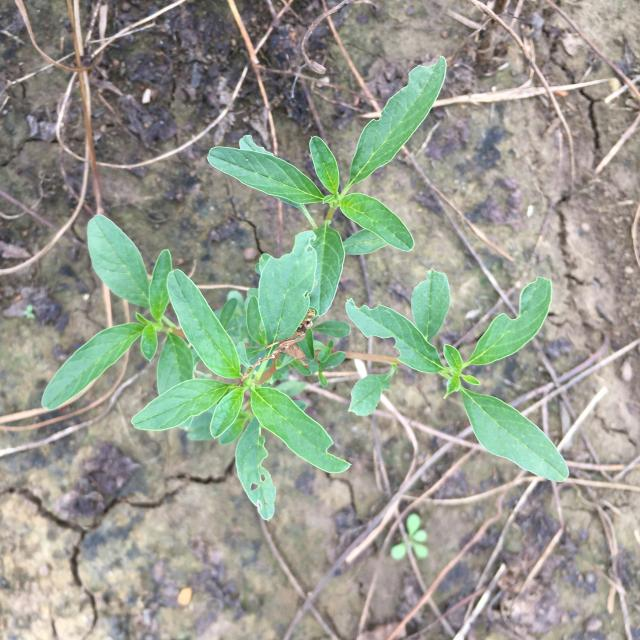Waterhemp: (41, 56, 570, 521)
